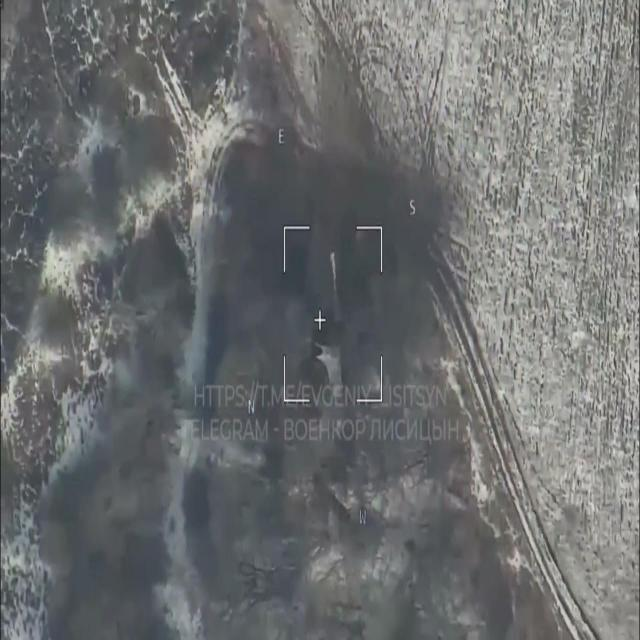cars: (315, 318, 362, 408)
